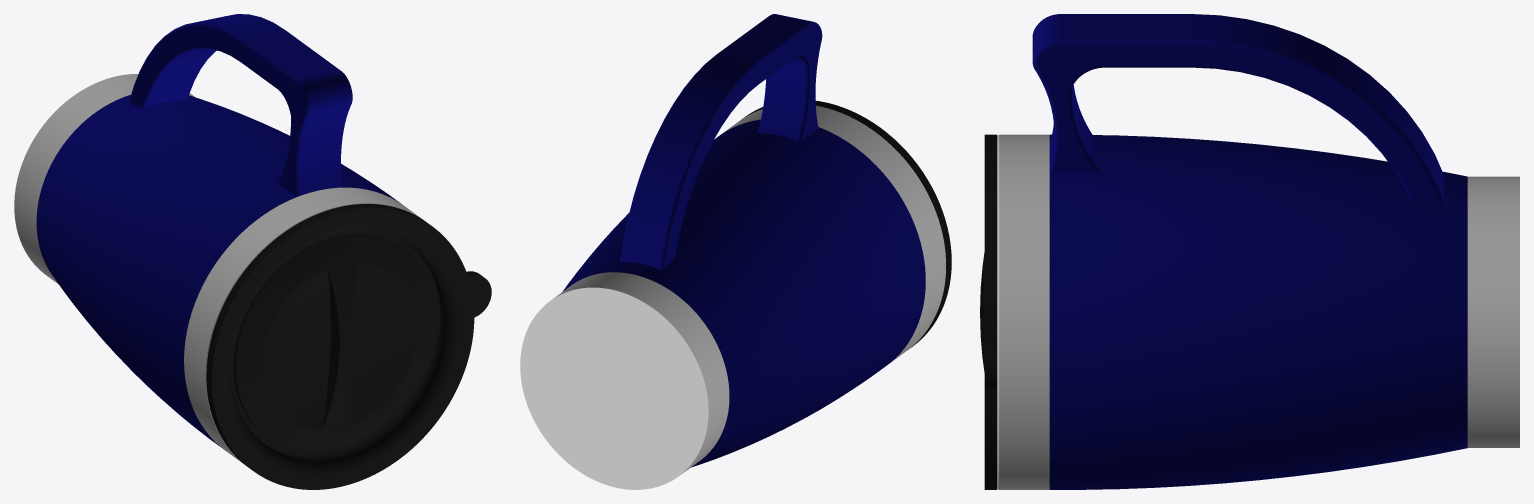
The model's file is model_align.obj.
The picture shows the model from 3 angles, left to right: view 1: azimuth 30°, elevation 25°; view 2: azimuth 150°, elevation 25°; view 3: azimuth 270°, elevation 25°; orthographic projection. The views are drawn at different scales.
Visible parts, largest first — view 1: mesh6_mesh6-geometry, mesh1_mesh1-geometry, mesh32_mesh32-geometry, mesh21_mesh21-geometry, mesh11_mesh11-geometry, mesh19_mesh19-geometry; view 2: mesh6_mesh6-geometry, mesh11_mesh11-geometry, mesh21_mesh21-geometry, mesh32_mesh32-geometry; view 3: mesh6_mesh6-geometry, mesh11_mesh11-geometry, mesh21_mesh21-geometry, mesh32_mesh32-geometry.
Boxes of the visible parts, x1,y1,x2,y2 form: mesh6_mesh6-geometry: [36, 94, 400, 446]; mesh1_mesh1-geometry: [233, 234, 436, 451]; mesh32_mesh32-geometry: [206, 204, 491, 489]; mesh21_mesh21-geometry: [129, 14, 352, 196]; mesh11_mesh11-geometry: [14, 74, 421, 464]; mesh19_mesh19-geometry: [322, 263, 357, 429]; mesh6_mesh6-geometry: [562, 119, 925, 467]; mesh11_mesh11-geometry: [520, 106, 945, 489]; mesh21_mesh21-geometry: [620, 14, 822, 270]; mesh32_mesh32-geometry: [742, 100, 951, 348]; mesh6_mesh6-geometry: [1049, 134, 1467, 489]; mesh11_mesh11-geometry: [997, 134, 1519, 489]; mesh21_mesh21-geometry: [1032, 14, 1444, 203]; mesh32_mesh32-geometry: [984, 134, 997, 489].
Bounding box in the file's own units: 0.0727 × 0.0959 × 0.1037.
